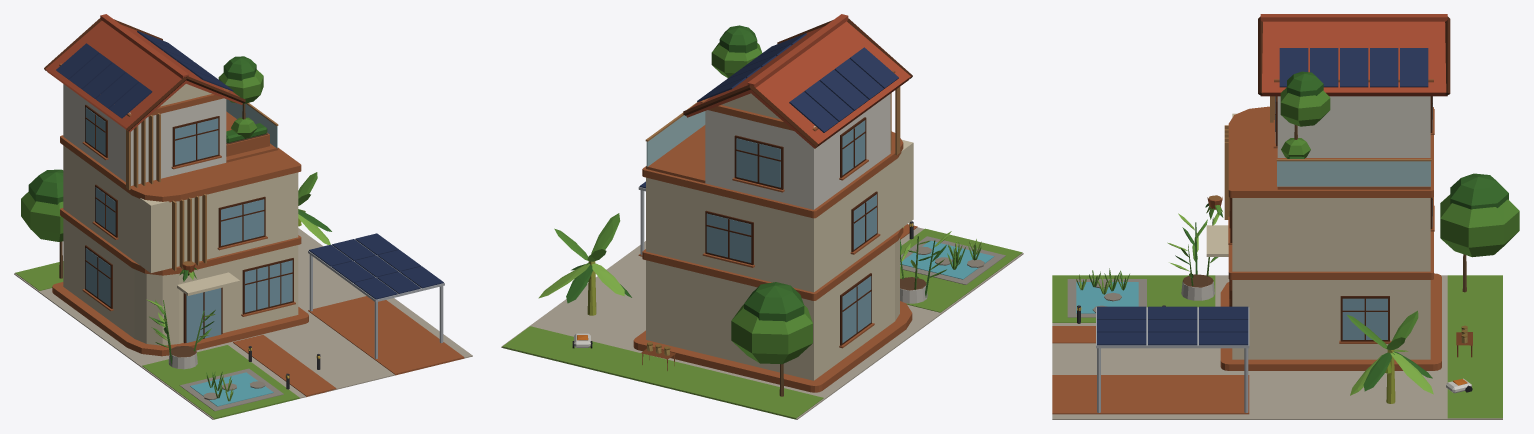
File: house12_2.glb
The picture shows the model from 3 angles, left to right: view 1: azimuth 30°, elevation 25°; view 2: azimuth 150°, elevation 25°; view 3: azimuth 270°, elevation 25°; orthographic projection. The views are drawn at different scales.
Parts seen in each view (by area): view 1: body; view 2: body; view 3: body.
Part boxes in pixels (x1,y1,x2,y2): body: (14, 14, 472, 419); body: (501, 14, 1023, 419); body: (1052, 14, 1519, 419).
Size of the model in its own units: 12 by 11.55 by 16.5.
